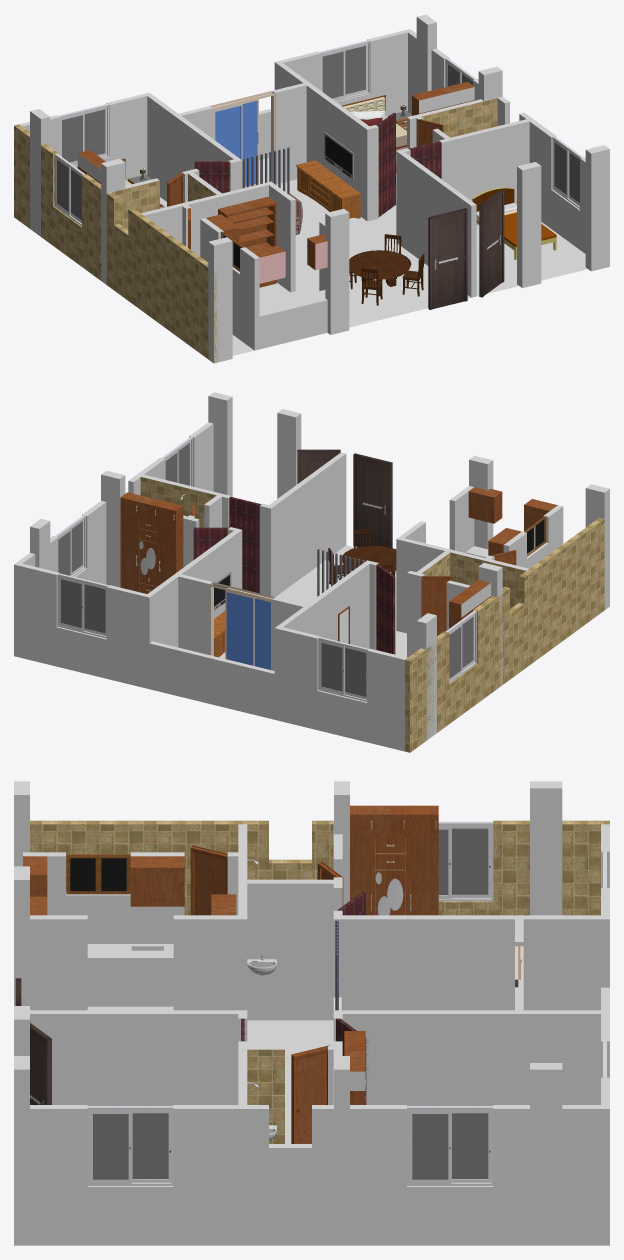
File: Interior+House.glb
3 renders of one model, top to bottom at view 1: azimuth 30°, elevation 25°; view 2: azimuth 150°, elevation 25°; view 3: azimuth 270°, elevation 25°, orthographic. The views are drawn at different scales.
Visible parts, largest first — view 1: _G-interior (Loose Mesh), G-Object, G-Object.014, G-Object.002, C-door one side.003, C-Group#5, C-Group#12.003, C-Group#12.001, C-Group#12.007, C-Group#12.005, C-Window slide, C-Window slide.004 (+21 smaller); view 2: _G-interior (Loose Mesh), G-Object.014, G-Object, G-Object.002, _G-Object.062 (Loose Mesh), C-Group#5, C-door one side.002, C-Window slide, C-Window slide.004, C-Group#12.005, _G-Object.015 (Loose Mesh), C-Group#12.006 (+19 smaller); view 3: _G-interior (Loose Mesh), G-Object.002, G-Object, _G-Object.047 (Loose Mesh), C-Window slide.001, C-Window slide.003, C-Group#12.004, C-Window slide.002, C-Group#12, C-Group#12.006, C-Group#12.005, G-Object.001 (+14 smaller).
Part boxes in pixels (x1=…): _G-interior (Loose Mesh): x1=112, y1=63, x2=587, y2=355; G-Object: x1=14, y1=124, x2=218, y2=363; G-Object.014: x1=19, y1=30, x2=407, y2=180; G-Object.002: x1=405, y1=29, x2=609, y2=267; C-door one side.003: x1=429, y1=208, x2=467, y2=309; C-Group#5: x1=210, y1=91, x2=274, y2=188; C-Group#12.003: x1=208, y1=237, x2=232, y2=363; C-Group#12.001: x1=517, y1=162, x2=541, y2=287; C-Group#12.007: x1=325, y1=208, x2=349, y2=334; C-Group#12.005: x1=585, y1=145, x2=609, y2=271; C-Window slide: x1=319, y1=40, x2=369, y2=101; C-Window slide.004: x1=58, y1=103, x2=109, y2=165; _G-interior (Loose Mesh): x1=140, y1=452, x2=563, y2=670; G-Object.014: x1=19, y1=563, x2=407, y2=751; G-Object: x1=405, y1=517, x2=609, y2=752; G-Object.002: x1=14, y1=422, x2=213, y2=657; _G-Object.062 (Loose Mesh): x1=120, y1=510, x2=183, y2=593; C-Group#5: x1=209, y1=582, x2=274, y2=670; C-door one side.002: x1=353, y1=454, x2=391, y2=547; C-Window slide: x1=57, y1=573, x2=108, y2=638; C-Window slide.004: x1=318, y1=637, x2=369, y2=701; C-Group#12.005: x1=208, y1=392, x2=232, y2=496; _G-Object.015 (Loose Mesh): x1=229, y1=496, x2=261, y2=593; C-Group#12.006: x1=101, y1=470, x2=125, y2=587; _G-interior (Loose Mesh): x1=23, y1=824, x2=600, y2=1143; G-Object.002: x1=14, y1=1105, x2=609, y2=1245; G-Object: x1=30, y1=820, x2=609, y2=915; _G-Object.047 (Loose Mesh): x1=350, y1=834, x2=438, y2=915; C-Window slide.001: x1=407, y1=1106, x2=493, y2=1185; C-Window slide.003: x1=87, y1=1106, x2=173, y2=1185; C-Group#12.004: x1=530, y1=1063, x2=562, y2=1245; C-Window slide.002: x1=438, y1=821, x2=493, y2=901; C-Group#12: x1=530, y1=781, x2=562, y2=915; C-Group#12.006: x1=334, y1=1056, x2=349, y2=1245; C-Group#12.005: x1=14, y1=1056, x2=29, y2=1245; G-Object.001: x1=130, y1=856, x2=184, y2=906.
Size of the model in its own units: 9.65 by 2.75 by 8.43.
Materials: 59 (23 with a texture image).
